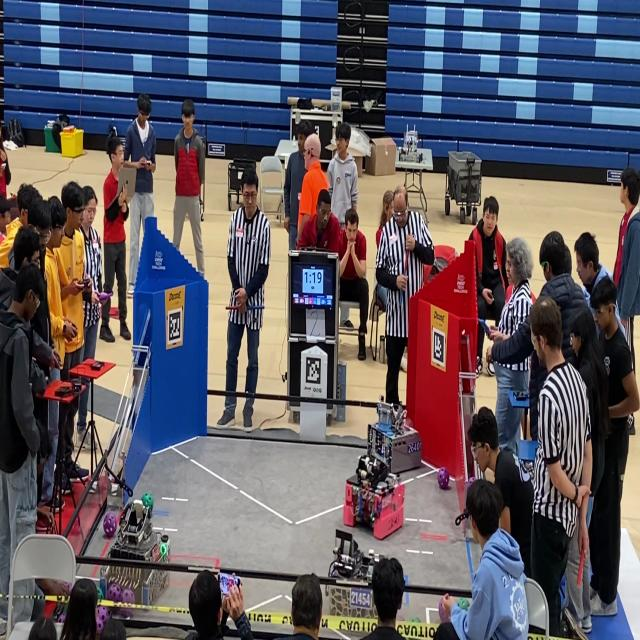artifact_green: (439, 598, 450, 622), (142, 493, 153, 509), (458, 598, 469, 610), (160, 542, 168, 557), (57, 613, 66, 624), (97, 587, 104, 600), (410, 617, 420, 623), (63, 603, 68, 613)
artifact_purple: (96, 606, 109, 634), (103, 512, 117, 538), (107, 583, 122, 602), (438, 467, 449, 490), (439, 598, 449, 622), (122, 589, 135, 604), (466, 476, 475, 490), (57, 613, 66, 624), (65, 582, 72, 593), (396, 616, 404, 621)
